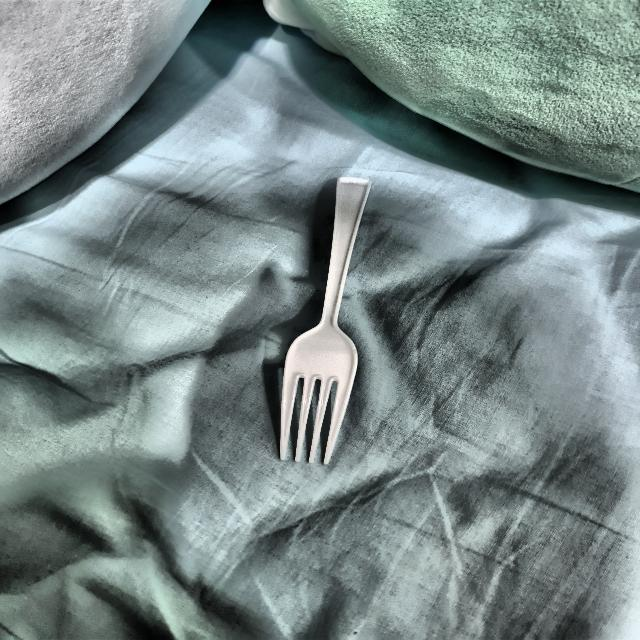plastic utensil: (267, 172, 382, 466)
